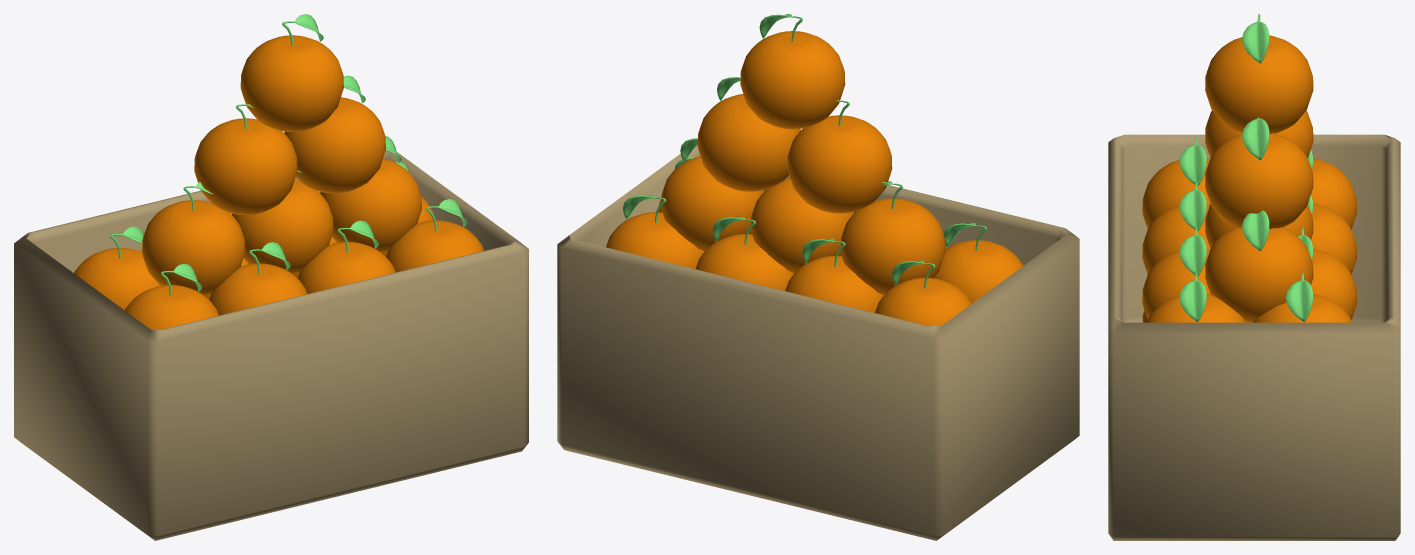
The picture shows the model from 3 angles, left to right: view 1: azimuth 30°, elevation 25°; view 2: azimuth 150°, elevation 25°; view 3: azimuth 270°, elevation 25°; orthographic projection. The views are drawn at different scales.
Visible parts, largest first — view 1: polySurface24; view 2: polySurface24; view 3: polySurface24.
Part boxes in pixels (left/top/right/bottom): polySurface24: left=14, top=14, right=528, bottom=540; polySurface24: left=557, top=14, right=1079, bottom=540; polySurface24: left=1108, top=14, right=1400, bottom=540.
Size of the model in its own units: 0.5532 by 0.5834 by 0.3507.
